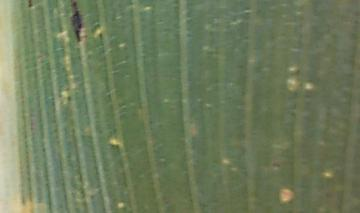tarspot: (67, 1, 83, 43), (269, 160, 281, 169), (65, 95, 74, 102), (98, 31, 104, 41), (26, 1, 33, 9)
